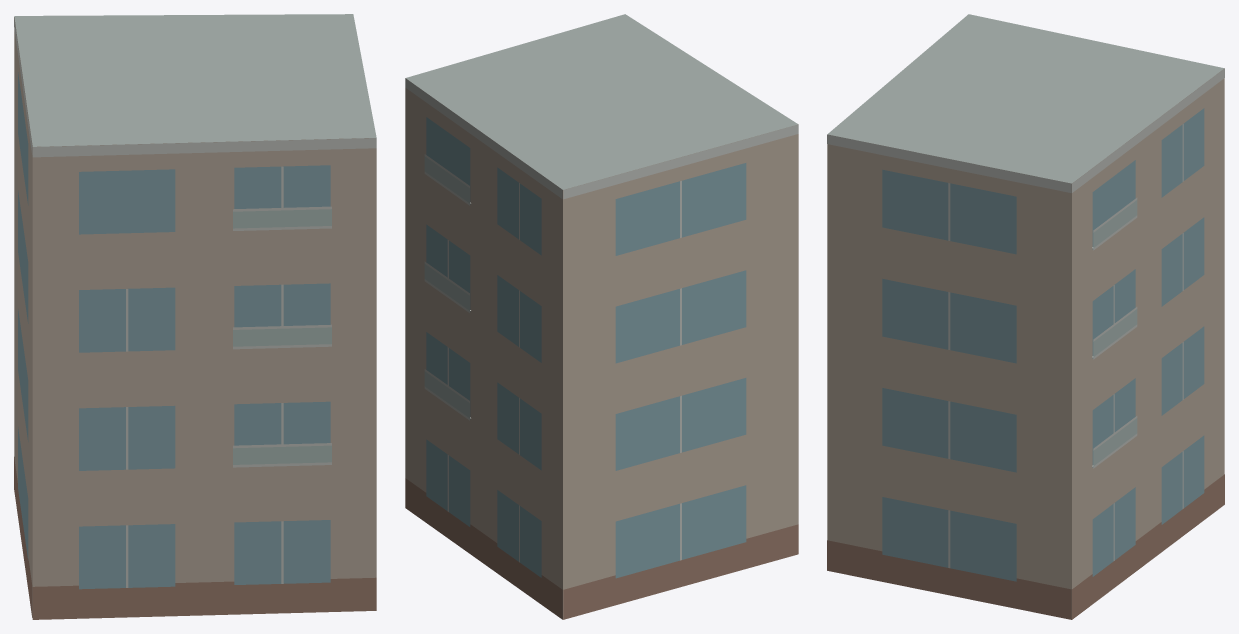
Rendered from survey-upis-32983787.glb.
The picture shows the model from 3 angles, left to right: view 1: azimuth 30°, elevation 25°; view 2: azimuth 150°, elevation 25°; view 3: azimuth 270°, elevation 25°; orthographic projection. The views are drawn at different scales.
Visible parts, largest first — view 1: survey-upis-32983787.tmp; view 2: survey-upis-32983787.tmp; view 3: survey-upis-32983787.tmp.
Part boxes in pixels (left/top/right/bottom): survey-upis-32983787.tmp: left=14, top=14, right=376, bottom=619; survey-upis-32983787.tmp: left=405, top=14, right=798, bottom=619; survey-upis-32983787.tmp: left=827, top=14, right=1224, bottom=619.
Size of the model in its own units: 9.18 by 11 by 9.09.
